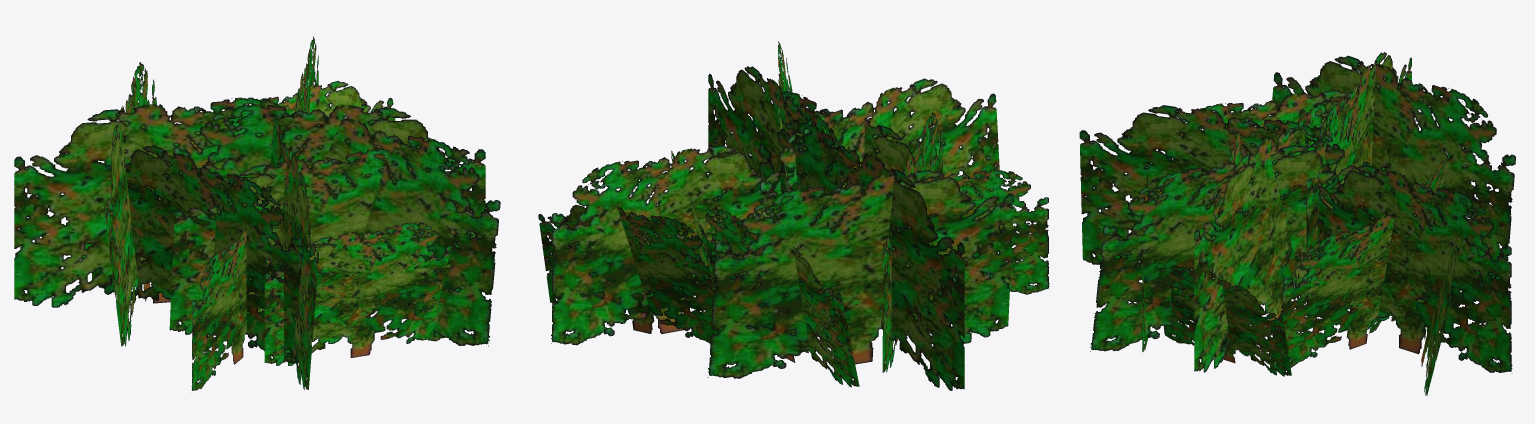
The model's file is grass1.glb.
The picture shows the model from 3 angles, left to right: view 1: azimuth 30°, elevation 25°; view 2: azimuth 150°, elevation 25°; view 3: azimuth 270°, elevation 25°; orthographic projection. The views are drawn at different scales.
Parts seen in each view (by area): view 1: default; view 2: default; view 3: default.
Boxes of the visible parts, x1,y1,x2,y2 form: default: (14, 36, 500, 390); default: (538, 41, 1049, 390); default: (1079, 52, 1515, 395).
Bounding box in the file's own units: 1.16 × 0.5771 × 1.13.
1 material, 1 textured.
